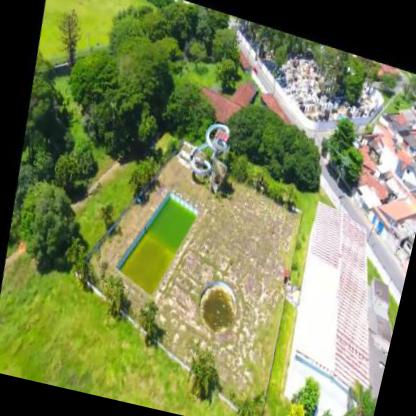agua: (113, 186, 203, 290), (194, 288, 240, 333)
